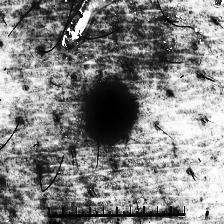Benign Marking or Mole: (92, 89, 134, 135)
